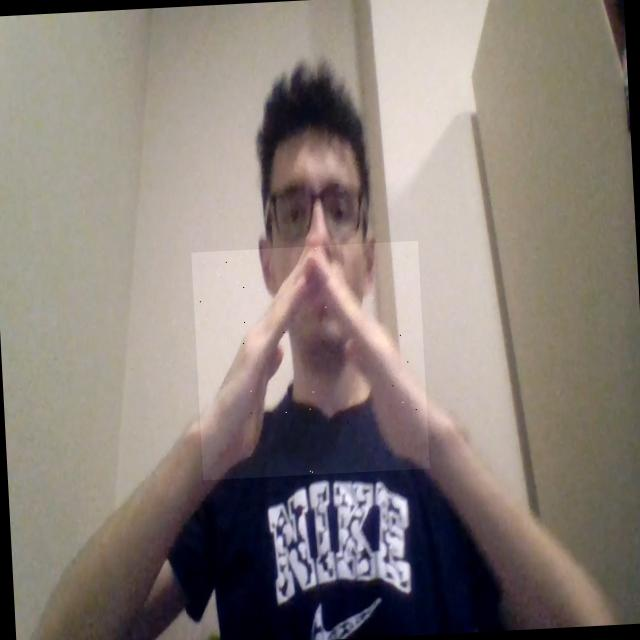house: (192, 241, 430, 480)
